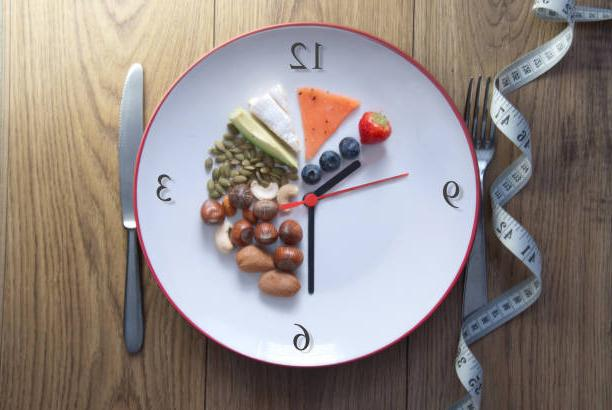clock: (134, 18, 480, 372)
